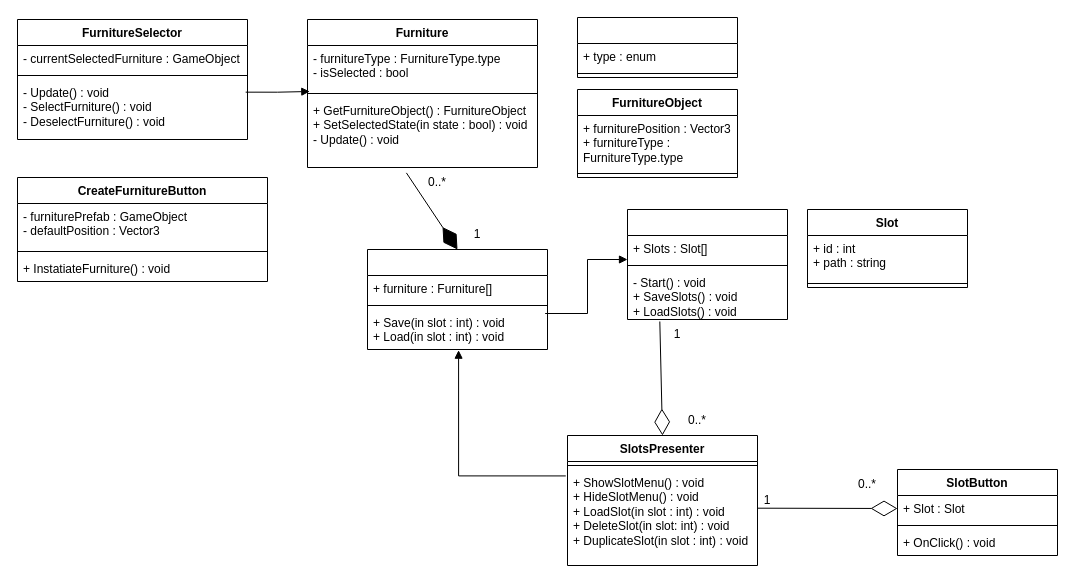
This 1075x586 diagram has some shape labels left out. The box of each missing label's shape, as (x1, y1, x2, y2) in pixels:
FurnitureType: (576, 16, 738, 78)
SaveLoadRoom: (366, 248, 548, 350)
SlotsManager: (626, 208, 788, 320)
